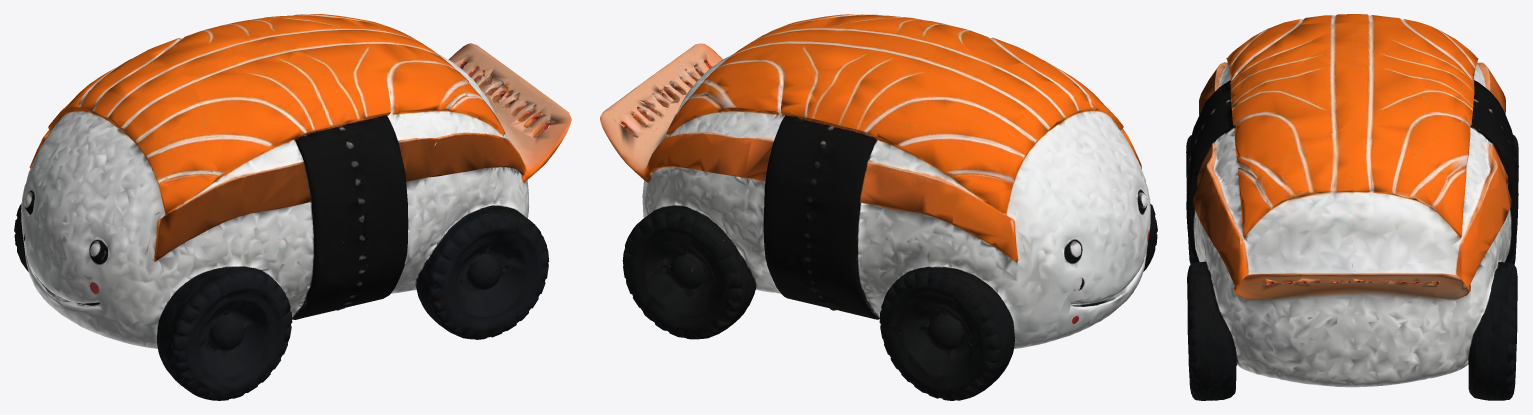
File: ur_phase.glb
The picture shows the model from 3 angles, left to right: view 1: azimuth 30°, elevation 25°; view 2: azimuth 150°, elevation 25°; view 3: azimuth 270°, elevation 25°; orthographic projection.
Size of the model in its own units: 1.9 by 1.04 by 1.16.
1 material, 1 textured.
